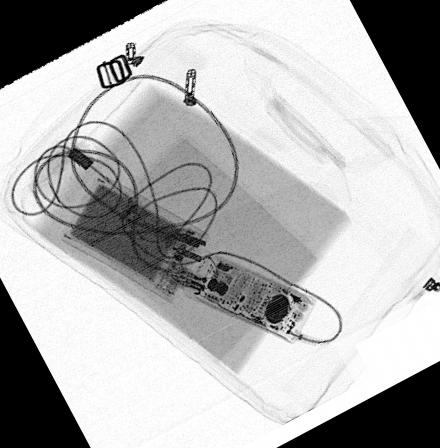Powerbank: (60, 173, 210, 302)
